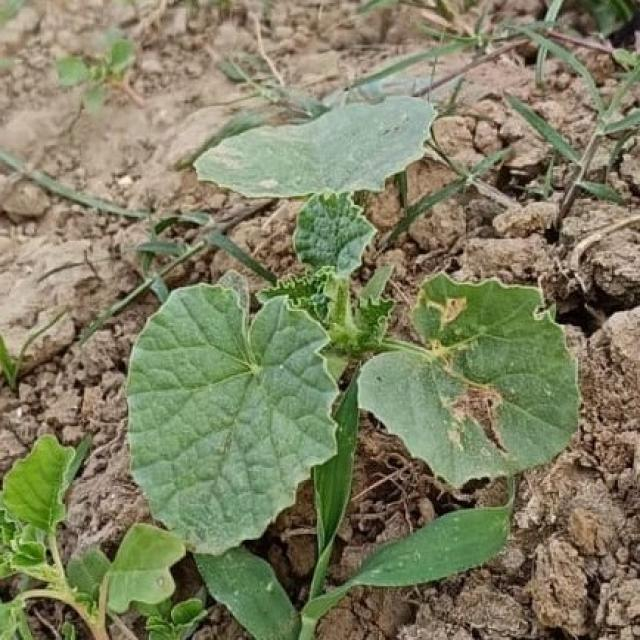plant: (0, 98, 578, 638)
